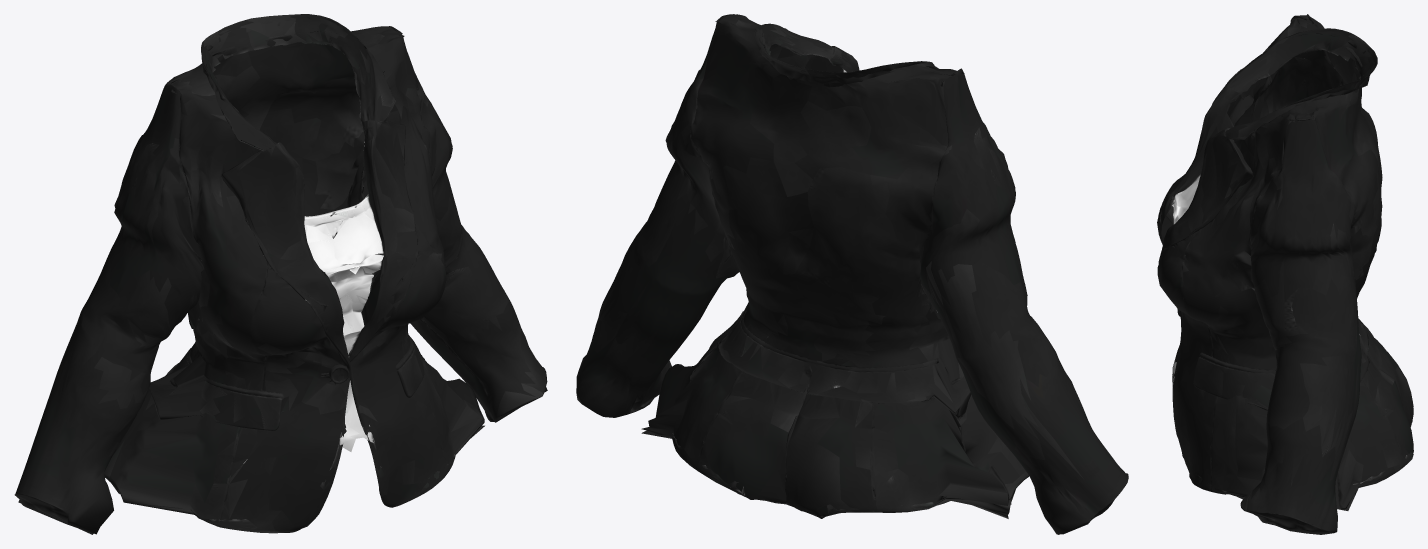
Rendered from top_f_blazer.glb.
3 views of the same model, side by side, from view 1: azimuth 30°, elevation 25°; view 2: azimuth 150°, elevation 25°; view 3: azimuth 270°, elevation 25° (orthographic). The views are drawn at different scales.
Parts seen in each view (by area): view 1: f_blazer; view 2: f_blazer; view 3: f_blazer.
Boxes of the visible parts, x1,y1,x2,y2 form: f_blazer: (14, 14, 547, 534); f_blazer: (576, 14, 1128, 534); f_blazer: (1157, 14, 1413, 534).
Bounding box in the file's own units: 0.8469 × 0.6659 × 0.3918.
1 material, 1 textured.
